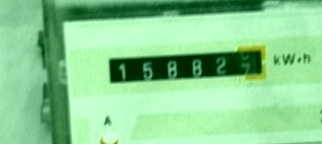1: (115, 60, 128, 79)
2: (214, 54, 226, 74)
5: (140, 59, 153, 79)
7: (239, 61, 251, 75)
8: (165, 57, 178, 79), (190, 56, 203, 78)
screen: (99, 39, 276, 91)
